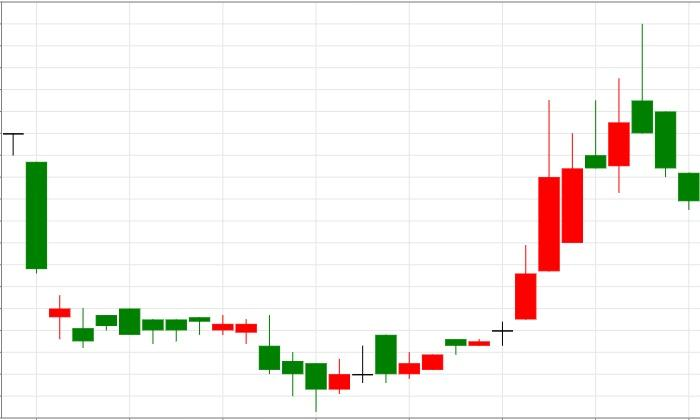shooting_star_fall: (398, 23, 653, 378)
